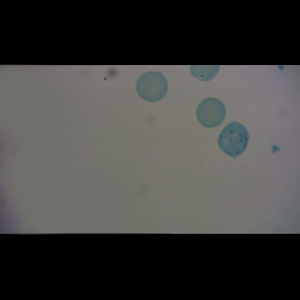erythrocyte: (194, 96, 227, 129)
punctate reticulocyte: (216, 120, 250, 158), (134, 70, 169, 103)
